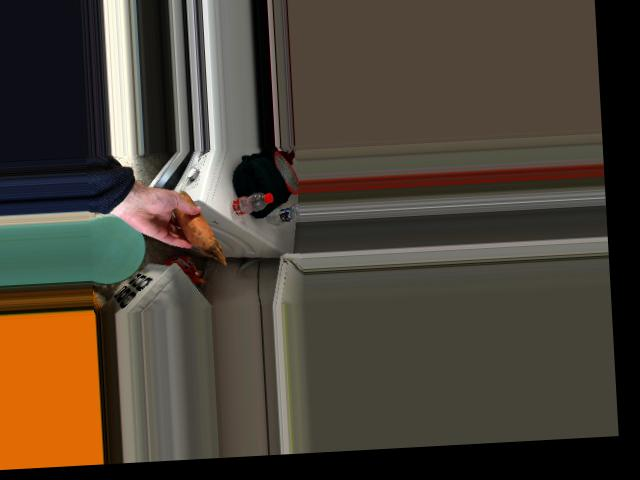sweet_potato: (170, 197, 213, 246)
